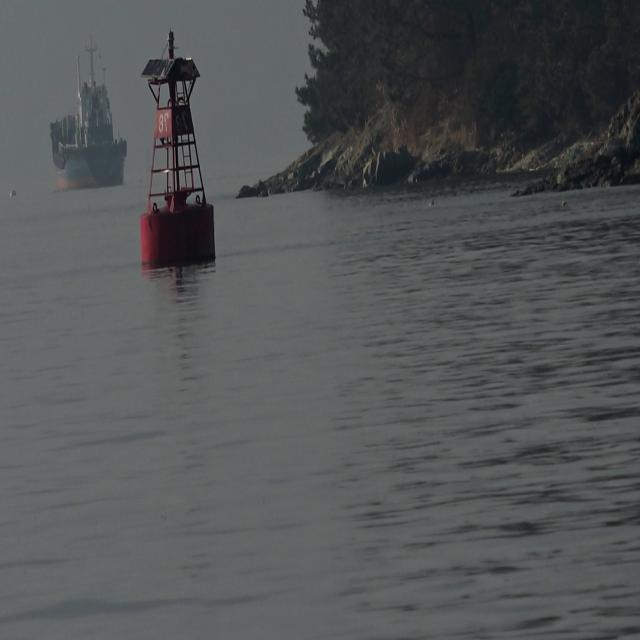ship: (48, 25, 130, 189)
